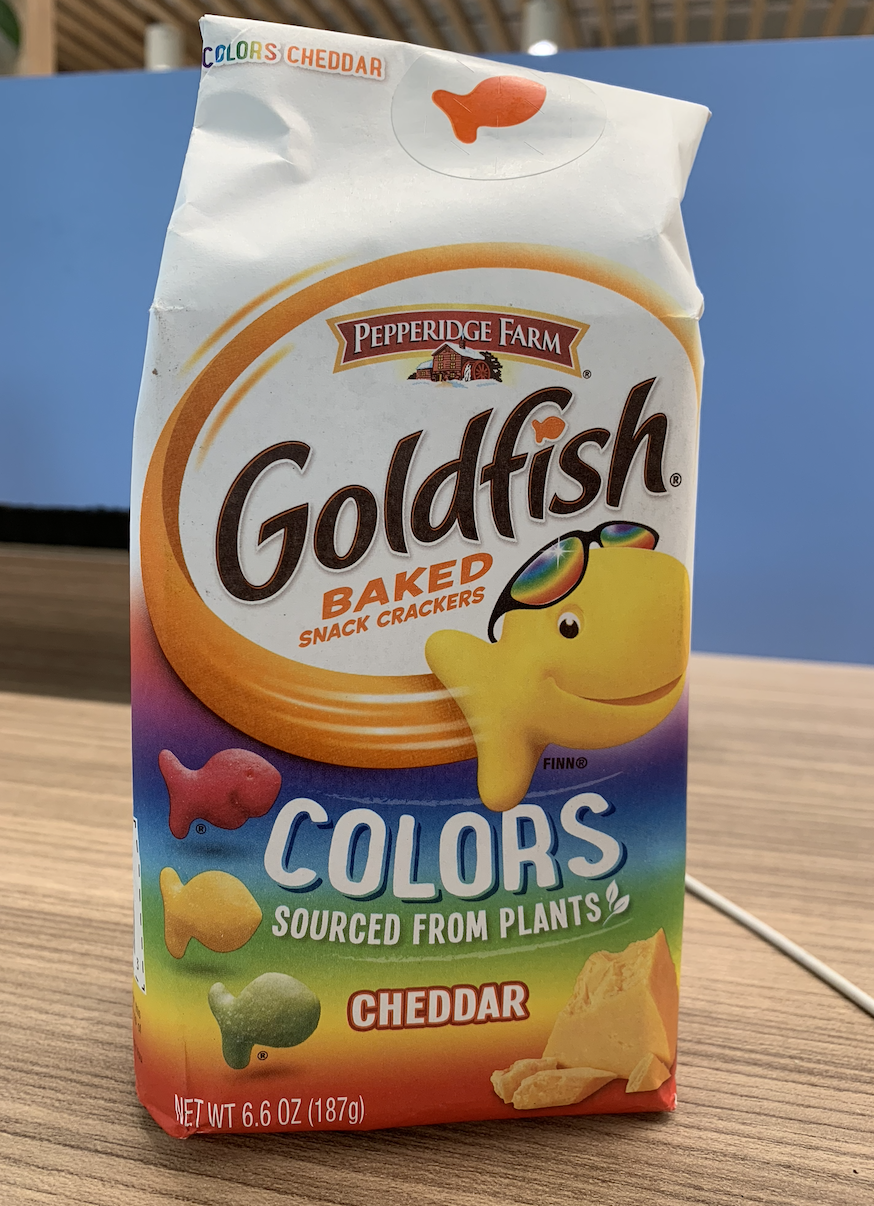crackers_150g: (171, 199, 643, 1136)
